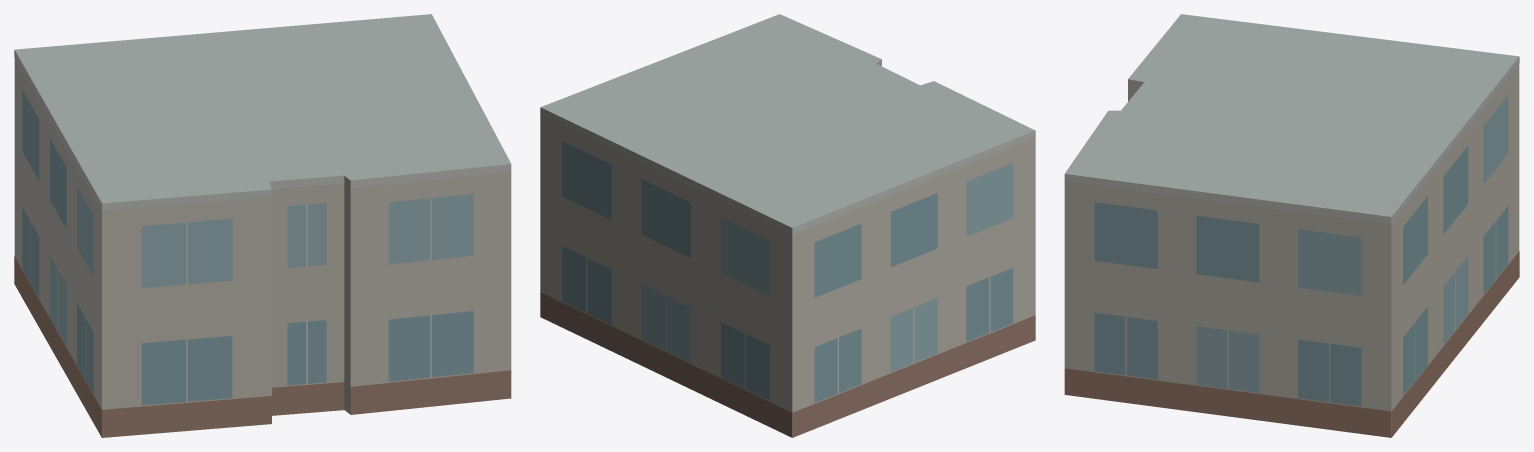
The model's file is survey-upis-32638876.glb.
3 renders of one model, left to right at view 1: azimuth 30°, elevation 25°; view 2: azimuth 150°, elevation 25°; view 3: azimuth 270°, elevation 25°, orthographic. The views are drawn at different scales.
Parts seen in each view (by area): view 1: survey-upis-32638876.tmp; view 2: survey-upis-32638876.tmp; view 3: survey-upis-32638876.tmp.
Part boxes in pixels (left/top/right/bottom): survey-upis-32638876.tmp: left=14, top=14, right=511, bottom=437; survey-upis-32638876.tmp: left=540, top=14, right=1035, bottom=437; survey-upis-32638876.tmp: left=1064, top=14, right=1519, bottom=437.
Size of the model in its own units: 14.79 by 7.5 by 14.01.
